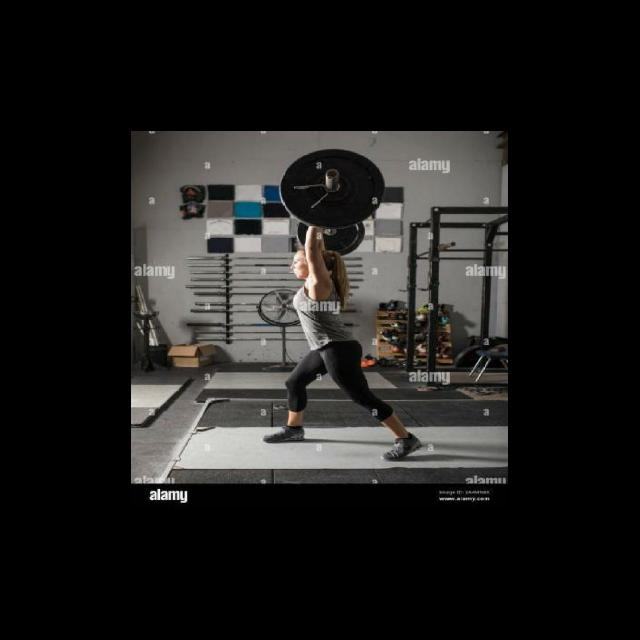barbell: (277, 143, 390, 231)
